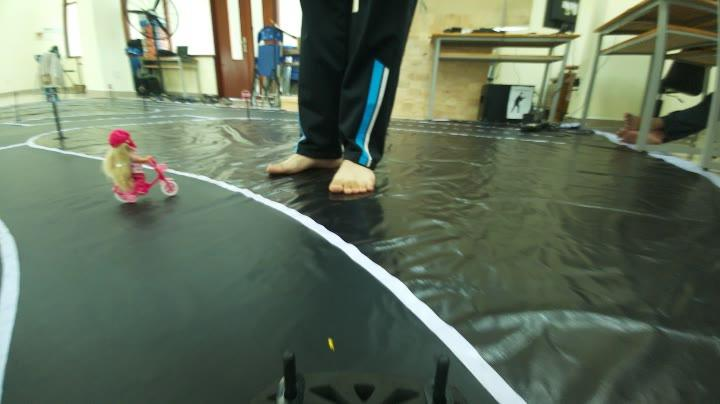pedestrian: (90, 130, 182, 202)
